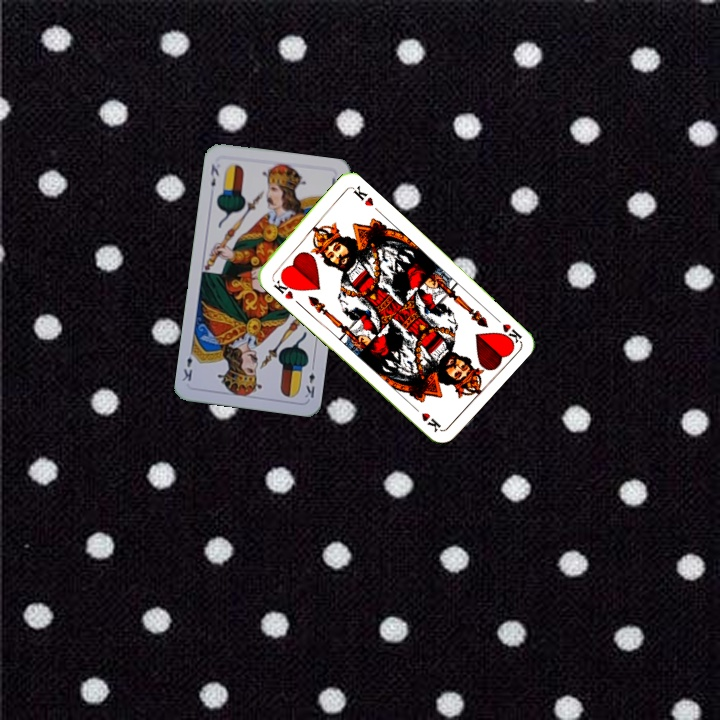EK: (301, 360, 317, 400), (206, 160, 222, 189)
HK: (489, 311, 524, 346), (269, 273, 298, 302)
